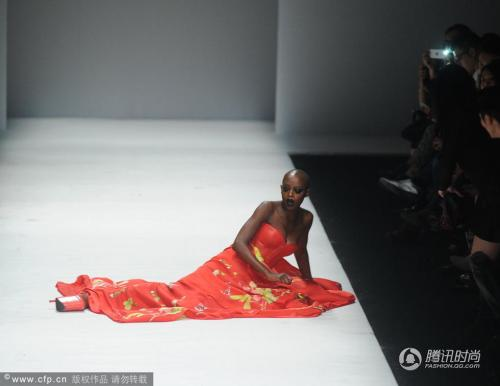fall: (36, 161, 345, 336)
